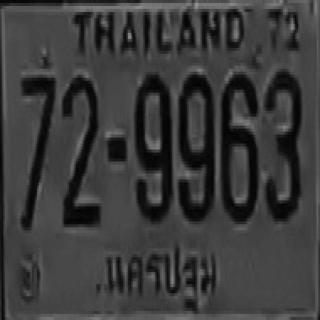N02: (62, 73, 98, 226)
N03: (264, 67, 300, 217)
N06: (219, 70, 256, 220)
N07: (19, 72, 55, 227)
N09: (176, 70, 213, 217), (133, 72, 170, 218)
P28: (101, 237, 226, 314)
